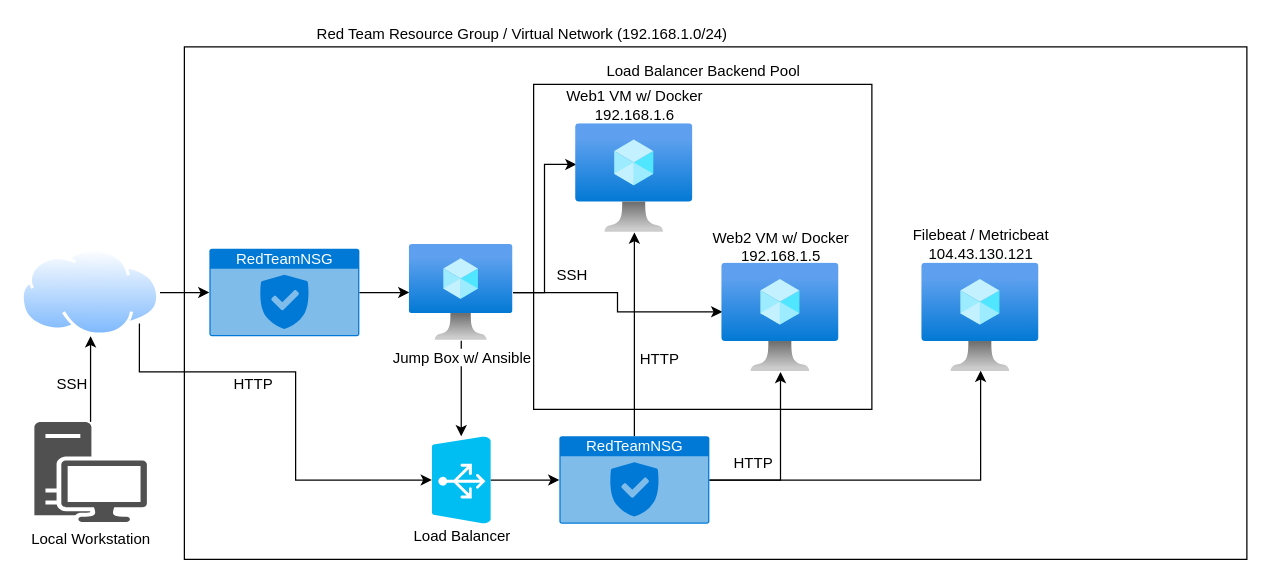
Image size: 1270x581. Some labels were removed from this diagram. The centre of each missing label's shape, as x and y in pixels:
ELK-Server: pixel 979 316
Internet: pixel 89 292
